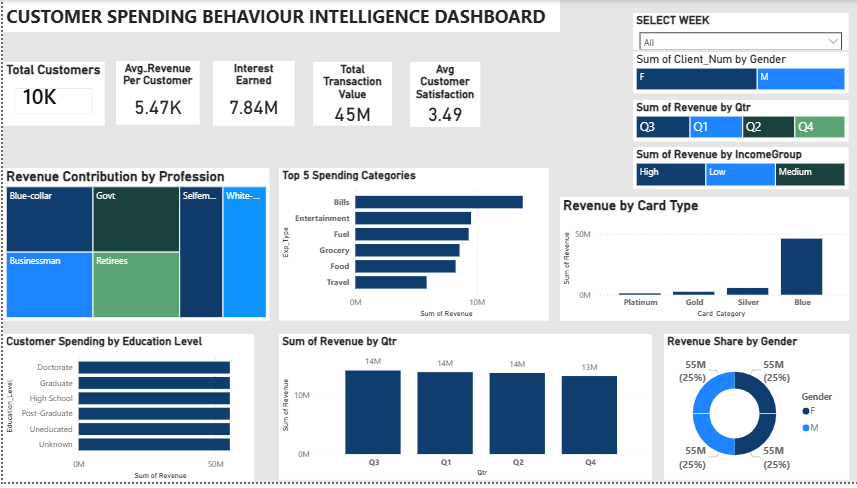

This screenshot's page, from the dashboard's own definition file:
{"tool":"powerbi","page":{"name":"Customer Report","canvas":[1280,720],"ordinal":2},"visuals":[{"type":"textbox","box":[0,0,831.7,48.3],"z":0},{"type":"card","title":"Avg Customer Satisfaction","fields":{"Values":["Avg(ccdb cust_detail.Cust_Satisfaction_Score)"]},"box":[608.3,93.3,105,96.7],"z":1000},{"type":"card","title":"Total Transaction Value","fields":{"Values":["Sum(ccdb cc_detail.Total_Trans_Amt)"]},"box":[463.3,93.3,118.3,95],"z":2000},{"type":"card","title":"Interest Earned","fields":{"Values":["Sum(ccdb cc_detail.Interest_Earned)"]},"box":[313.3,91.7,121.7,96.7],"z":3000},{"type":"slicer","title":"SELECT WEEK","fields":{"Values":["ccdb cc_detail.Week_Start_Date"]},"box":[941.7,20,321.7,55],"z":4000},{"type":"treemap","fields":{"Group":["ccdb cc_detail.Qtr"],"Values":["Sum(ccdb cc_detail.Revenue)"]},"box":[941.7,150,321.7,61.7],"z":5000},{"type":"treemap","fields":{"Group":["ccdb cust_detail.Gender"],"Values":["Sum(ccdb cust_detail.Client_Num)"]},"box":[941.7,78.3,321.7,61.7],"z":6000},{"type":"clusteredColumnChart","title":"Revenue by Card Type","fields":{"Category":["ccdb cc_detail.Card_Category"],"Y":["Sum(ccdb cc_detail.Revenue)"]},"box":[831.7,295,431.7,185],"z":7000},{"type":"treemap","fields":{"Details":["ccdb cust_detail.IncomeGroup"],"Values":["Sum(ccdb cc_detail.Revenue)"]},"box":[941.7,220,321.7,63.3],"z":8000},{"type":"card","title":"Avg..Revenue Per Customer","fields":{"Values":["ccdb cust_detail.Revenue_per_Customer"]},"box":[168.3,91.7,125,95],"z":9000},{"type":"treemap","title":"Revenue Contribution by Profession","fields":{"Details":["ccdb cust_detail.Customer_Job"],"Values":["Sum(ccdb cc_detail.Revenue)"]},"box":[0,251.7,398.3,228.3],"z":10000},{"type":"barChart","title":"Customer Spending by Education Level","fields":{"Category":["ccdb cust_detail.Education_Level"],"Y":["Sum(ccdb cc_detail.Revenue)"]},"box":[0,498.3,375,221.7],"z":11000},{"type":"donutChart","title":"Revenue Share by Gender","fields":{"Y":["ccdb cc_detail.Total_Revenue","Sum(ccdb cc_detail.Revenue)"],"Category":["ccdb cust_detail.Gender"]},"box":[986.7,498.3,276.7,218.3],"z":12000},{"type":"cardVisual","title":"Total Customers","fields":{"Data":["ccdb cc_detail.Total Customers"]},"box":[0,93.3,151.7,95],"z":14000},{"type":"columnChart","fields":{"Y":["Sum(ccdb cc_detail.Revenue)"],"Category":["ccdb cc_detail.Qtr"]},"box":[411.7,498.3,556.7,218.3],"z":15000},{"type":"clusteredBarChart","title":"Top 5 Spending Categories","fields":{"Category":["ccdb cc_detail.Exp_Type"],"Y":["Sum(ccdb cc_detail.Revenue)"]},"box":[411.7,251.7,403.3,228.3],"z":16000}]}

Visuals, with their boxes in screenshot pixels (x1, y1, x2, y2), scaled from the page's 1280x720 canvas onto the 857x488 screenshot:
textbox: bbox=(0, 0, 557, 33)
"Avg Customer Satisfaction" card: bbox=(407, 63, 478, 129)
"Total Transaction Value" card: bbox=(310, 63, 389, 128)
"Interest Earned" card: bbox=(210, 62, 291, 128)
"SELECT WEEK" slicer: bbox=(630, 14, 846, 51)
treemap - ccdb cc_detail.Qtr x Sum(ccdb cc_detail.Revenue): bbox=(630, 102, 846, 143)
treemap - ccdb cust_detail.Gender x Sum(ccdb cust_detail.Client_Num): bbox=(630, 53, 846, 95)
"Revenue by Card Type" clusteredColumnChart: bbox=(557, 200, 846, 325)
treemap - ccdb cust_detail.IncomeGroup x Sum(ccdb cc_detail.Revenue): bbox=(630, 149, 846, 192)
"Avg..Revenue Per Customer" card: bbox=(113, 62, 196, 127)
"Revenue Contribution by Profession" treemap: bbox=(0, 171, 267, 325)
"Customer Spending by Education Level" barChart: bbox=(0, 338, 251, 487)
"Revenue Share by Gender" donutChart: bbox=(661, 338, 846, 486)
"Total Customers" cardVisual: bbox=(0, 63, 102, 128)
columnChart - Sum(ccdb cc_detail.Revenue) x ccdb cc_detail.Qtr: bbox=(276, 338, 648, 486)
"Top 5 Spending Categories" clusteredBarChart: bbox=(276, 171, 546, 325)
